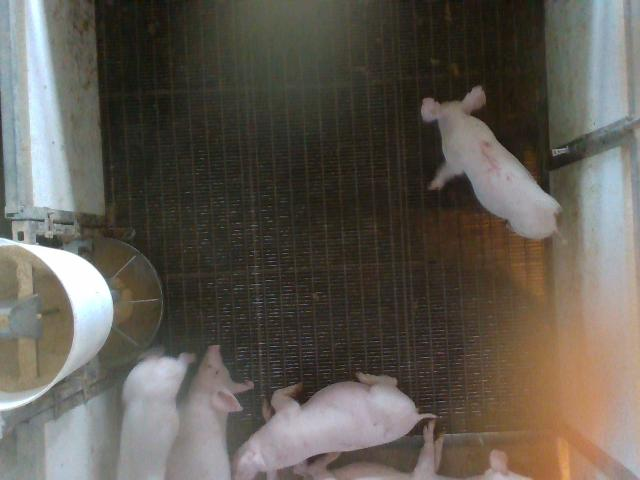pig-5: (421, 88, 561, 238)
